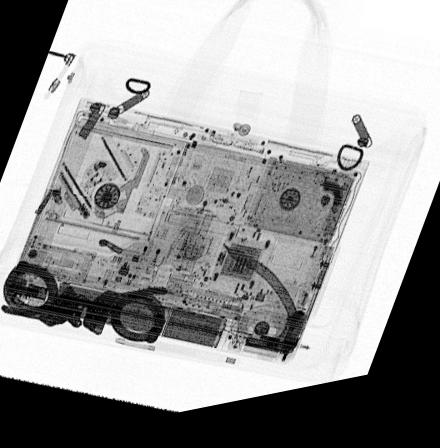HandCuffs: (0, 259, 169, 353)
